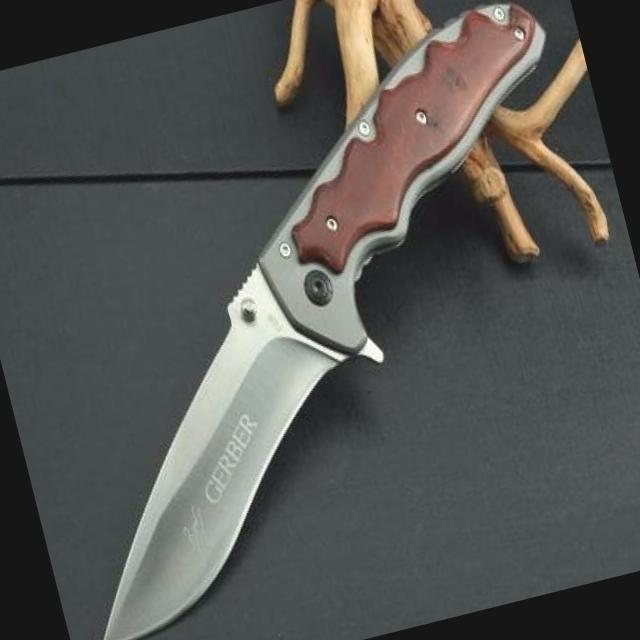knife: (2, 200, 444, 639)
